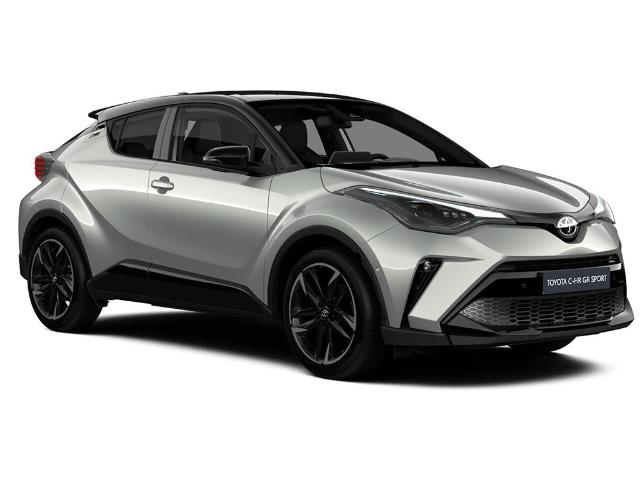toyota: (19, 90, 636, 378)
